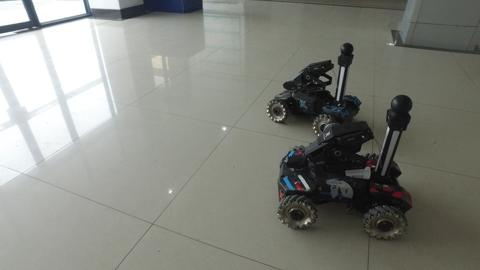chariot: (270, 88, 423, 243), (265, 39, 362, 140)
